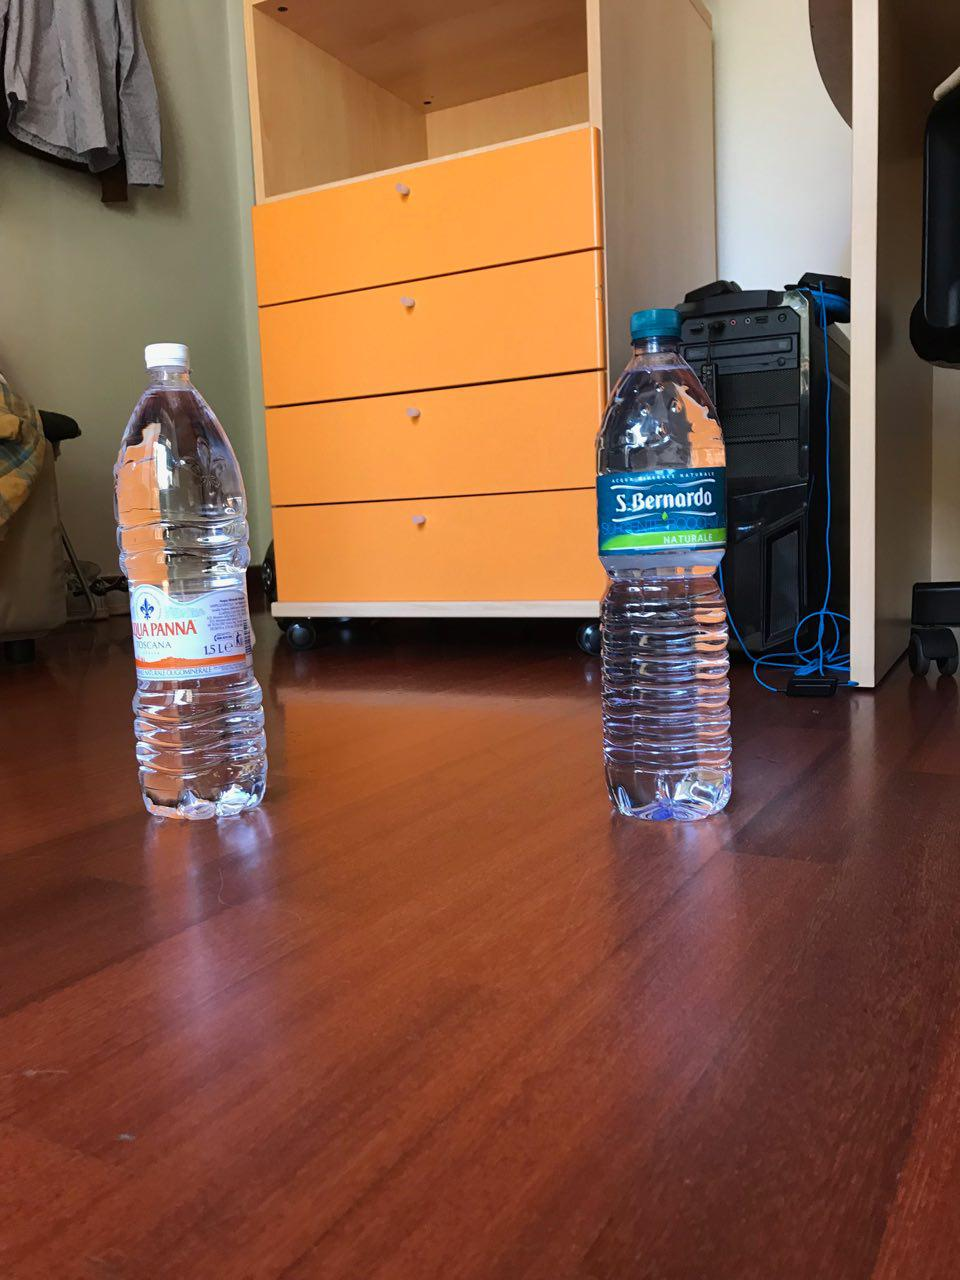san_bernardo: (595, 307, 734, 821)
